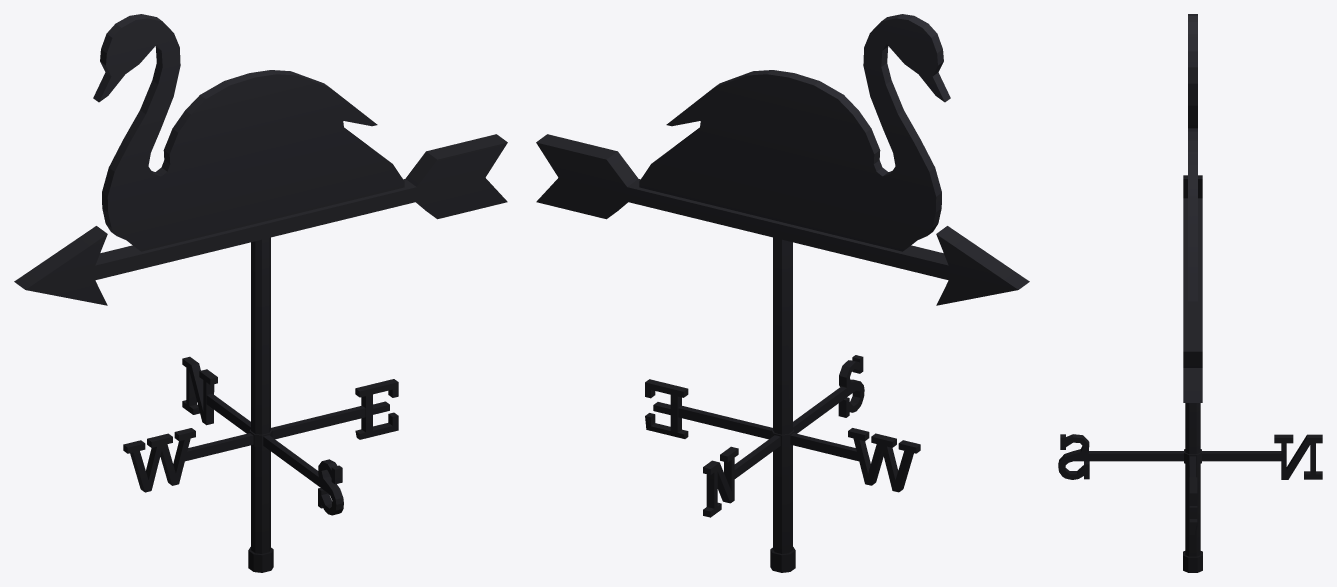
File: Prop_Weathervane_03.obj
3 renders of one model, left to right at view 1: azimuth 30°, elevation 25°; view 2: azimuth 150°, elevation 25°; view 3: azimuth 270°, elevation 25°, orthographic. The views are drawn at different scales.
Visible parts, largest first — view 1: Prop_Weathervane_Top_03, Prop_Weathervane_03; view 2: Prop_Weathervane_Top_03, Prop_Weathervane_03; view 3: Prop_Weathervane_03, Prop_Weathervane_Top_03.
Boxes of the visible parts, <box> form: Prop_Weathervane_Top_03: <box>14,14,507,305</box>; Prop_Weathervane_03: <box>123,237,398,572</box>; Prop_Weathervane_Top_03: <box>536,14,1029,305</box>; Prop_Weathervane_03: <box>645,237,920,572</box>; Prop_Weathervane_03: <box>1058,403,1322,572</box>; Prop_Weathervane_Top_03: <box>1183,14,1202,402</box>.
Bounding box in the file's own units: 1.04 × 1.2 × 0.5747.
Materials: 1 (1 with a texture image).
